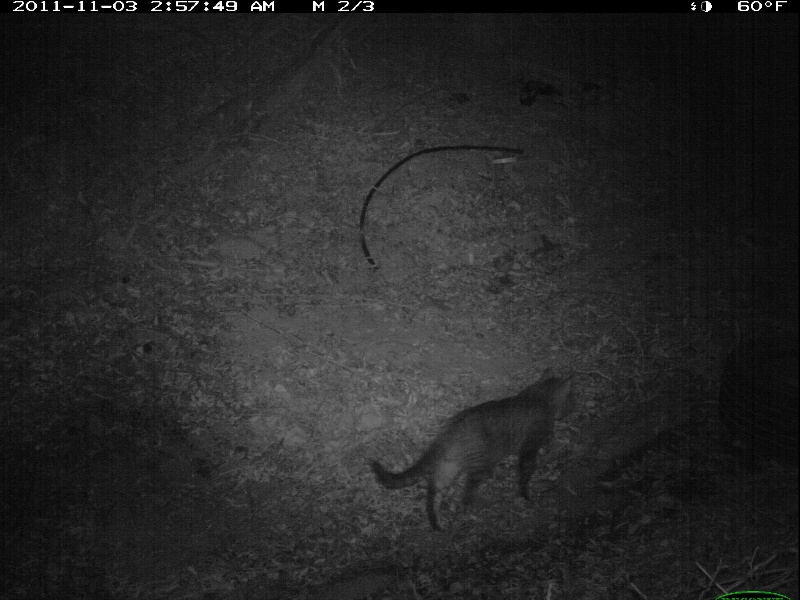cat: (372, 361, 576, 533)
